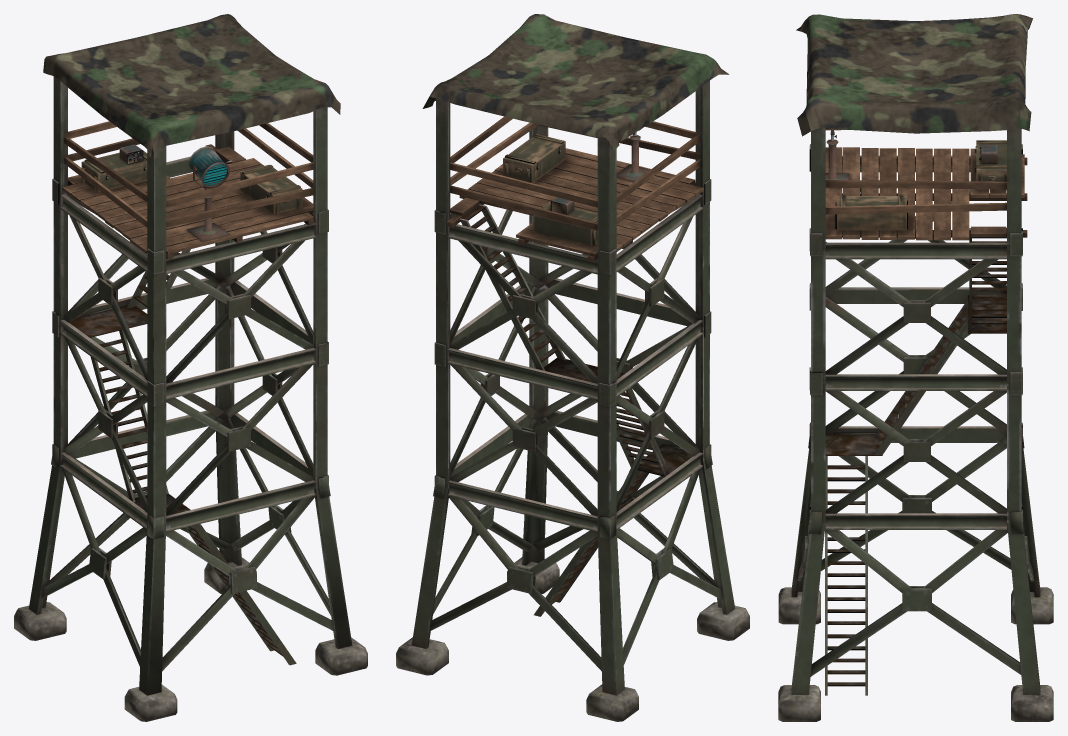
The model's file is gtwr.glb.
3 renders of one model, left to right at view 1: azimuth 30°, elevation 25°; view 2: azimuth 150°, elevation 25°; view 3: azimuth 270°, elevation 25°, orthographic. The views are drawn at different scales.
Parts seen in each view (by area): view 1: hull; view 2: hull; view 3: hull.
Boxes of the visible parts, box(x1,y1,x2,y2) form: hull: box(14, 14, 367, 721); hull: box(396, 14, 749, 721); hull: box(778, 14, 1053, 721).
Size of the model in its own units: 5.18 by 12.61 by 5.18.
Materials: 1 (1 with a texture image).
